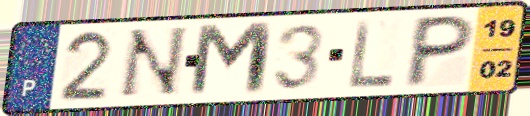2: (57, 27, 117, 105)
3: (272, 23, 327, 91)
L: (348, 17, 397, 91)
M: (186, 20, 277, 100)
N: (113, 24, 191, 102)
P: (399, 13, 480, 90)
